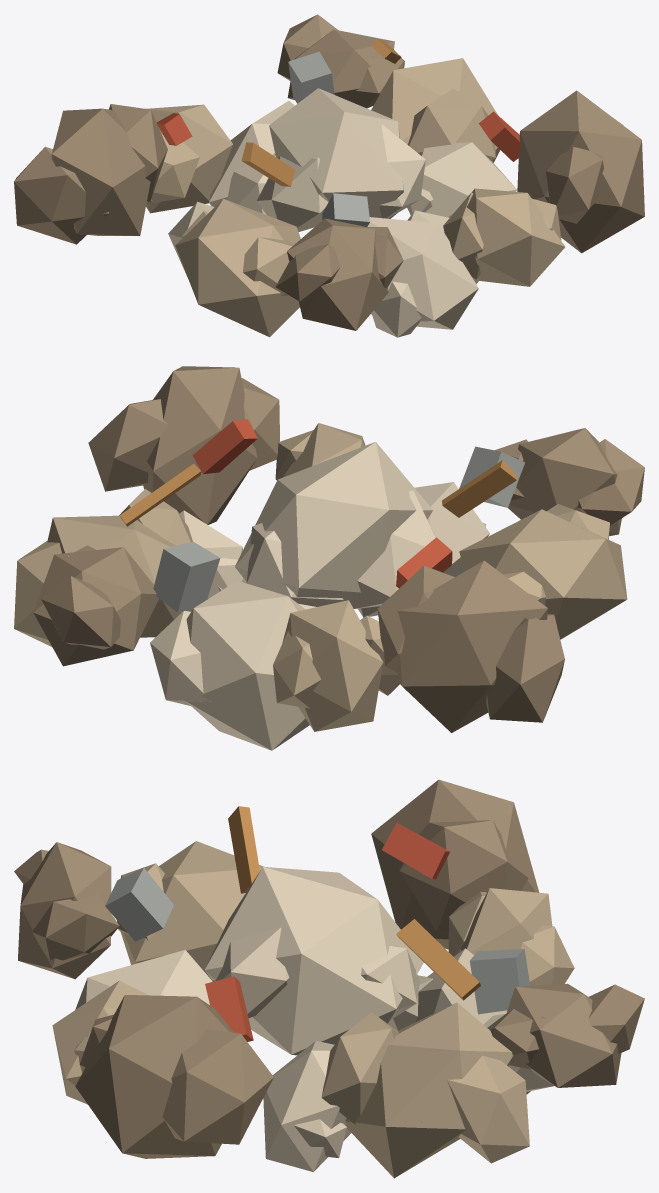
File: fx_dust_bulldoze_burst.glb
The picture shows the model from 3 angles, top to bottom: view 1: azimuth 30°, elevation 25°; view 2: azimuth 150°, elevation 25°; view 3: azimuth 270°, elevation 25°; orthographic projection. The views are drawn at different scales.
Parts seen in each view (by area): view 1: fx_dust_bulldoze_burst_dust_earth, fx_dust_bulldoze_burst_dust_sand, fx_dust_bulldoze_burst_dust_cream, fx_dust_bulldoze_burst_rubble_conc, fx_dust_bulldoze_burst_rubble_brick, fx_dust_bulldoze_burst_rubble_wood; view 2: fx_dust_bulldoze_burst_dust_earth, fx_dust_bulldoze_burst_dust_cream, fx_dust_bulldoze_burst_dust_sand, fx_dust_bulldoze_burst_rubble_conc, fx_dust_bulldoze_burst_rubble_brick, fx_dust_bulldoze_burst_rubble_wood; view 3: fx_dust_bulldoze_burst_dust_earth, fx_dust_bulldoze_burst_dust_sand, fx_dust_bulldoze_burst_dust_cream, fx_dust_bulldoze_burst_rubble_conc, fx_dust_bulldoze_burst_rubble_wood, fx_dust_bulldoze_burst_rubble_brick.
Part boxes in pixels (x1=…): fx_dust_bulldoze_burst_dust_earth: x1=14, y1=14, x2=644, y2=330; fx_dust_bulldoze_burst_dust_sand: x1=145, y1=58, x2=565, y2=337; fx_dust_bulldoze_burst_dust_cream: x1=168, y1=88, x2=516, y2=337; fx_dust_bulldoze_burst_rubble_conc: x1=288, y1=51, x2=369, y2=226; fx_dust_bulldoze_burst_rubble_brick: x1=156, y1=111, x2=520, y2=161; fx_dust_bulldoze_burst_rubble_wood: x1=241, y1=38, x2=401, y2=186; fx_dust_bulldoze_burst_dust_earth: x1=33, y1=366, x2=644, y2=732; fx_dust_bulldoze_burst_dust_cream: x1=150, y1=442, x2=489, y2=750; fx_dust_bulldoze_burst_dust_sand: x1=14, y1=423, x2=627, y2=731; fx_dust_bulldoze_burst_rubble_conc: x1=153, y1=446, x2=525, y2=612; fx_dust_bulldoze_burst_rubble_brick: x1=192, y1=419, x2=452, y2=588; fx_dust_bulldoze_burst_rubble_wood: x1=120, y1=460, x2=516, y2=526; fx_dust_bulldoze_burst_dust_earth: x1=14, y1=779, x2=644, y2=1158; fx_dust_bulldoze_burst_dust_sand: x1=52, y1=841, x2=574, y2=1178; fx_dust_bulldoze_burst_dust_cream: x1=75, y1=867, x2=553, y2=1171; fx_dust_bulldoze_burst_rubble_conc: x1=105, y1=868, x2=530, y2=1014; fx_dust_bulldoze_burst_rubble_wood: x1=228, y1=806, x2=480, y2=1000; fx_dust_bulldoze_burst_rubble_brick: x1=205, y1=823, x2=449, y2=1041.
Size of the model in its own units: 1.82 by 0.6766 by 1.63.
